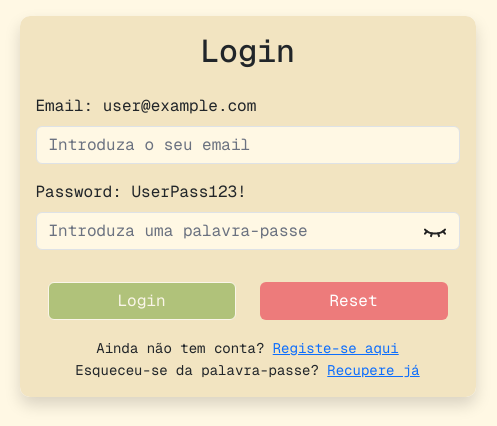
Scenario: User wants to recover his password › should show the recover page to the user
This screenshot has width=497, height=426.
What coordinates should you click on to do the following:
click the link with test id "bt-recover"
I would click on:
 (373, 370)
Its box is [327, 361, 419, 379].
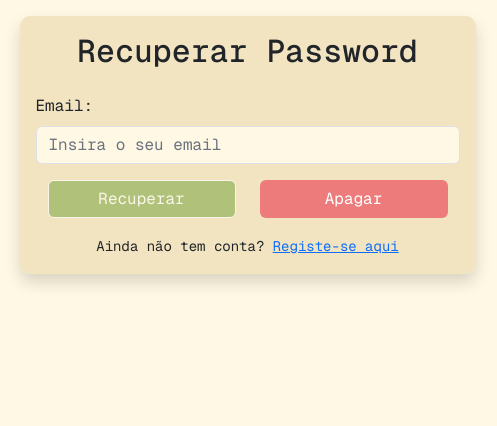
Check: the element with test id "recover-container" is shown, box [20, 16, 476, 274]
